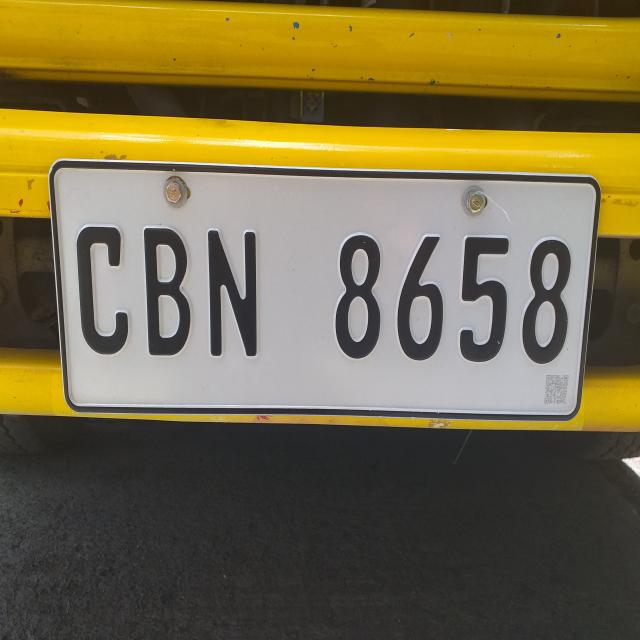number: (50, 160, 600, 421)
